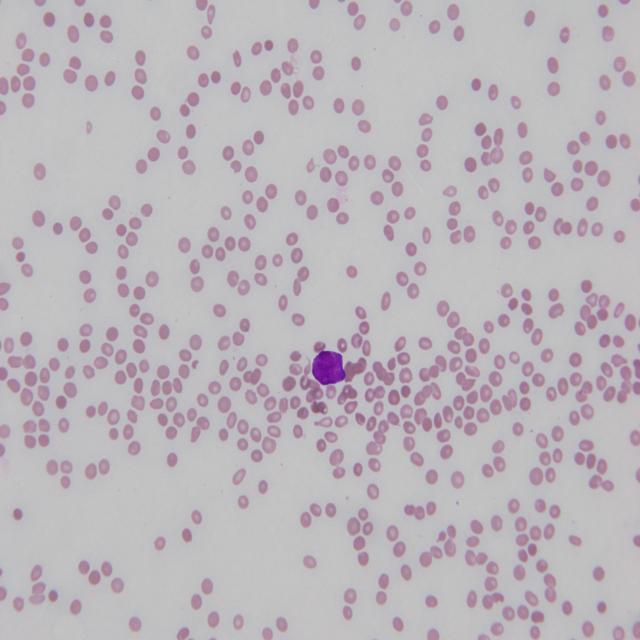cell: (312, 351, 345, 386)
